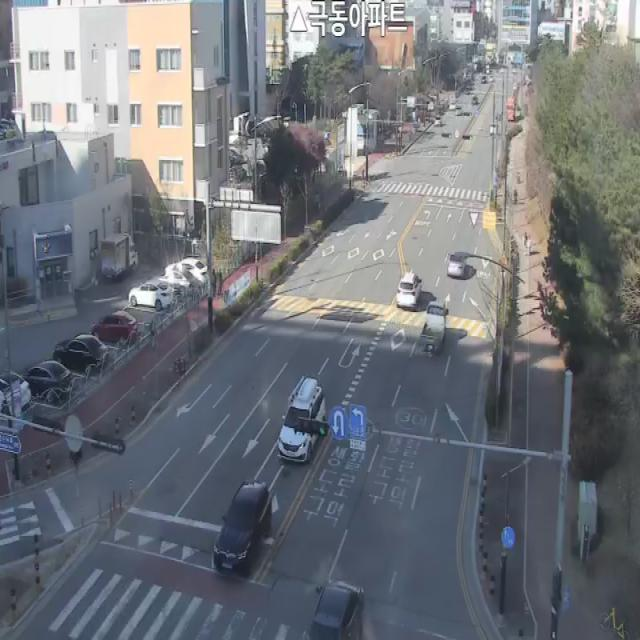Bus: (505, 97, 516, 122)
Car: (214, 478, 272, 576), (278, 374, 326, 462), (309, 580, 368, 640), (21, 361, 74, 406), (53, 334, 108, 375), (102, 232, 138, 281), (90, 312, 137, 347), (420, 299, 449, 354), (0, 371, 32, 417), (155, 271, 200, 299), (129, 282, 174, 309), (164, 257, 208, 282), (396, 272, 423, 309), (448, 254, 466, 278), (490, 121, 499, 135), (434, 115, 444, 127), (456, 105, 464, 116), (471, 96, 478, 105), (465, 86, 471, 95), (485, 65, 490, 74), (449, 103, 456, 109), (482, 76, 487, 84)
